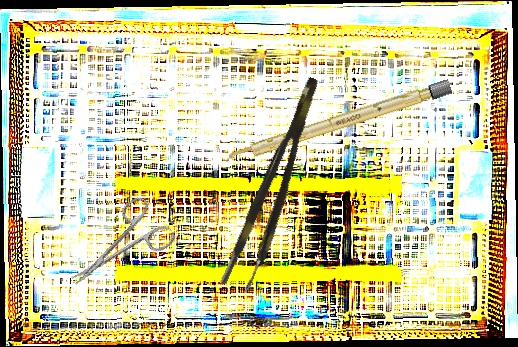Iris Scissors: (55, 191, 178, 304)
Scalpel Handle: (224, 79, 453, 166)
Tissue Forceps: (218, 75, 338, 295)
